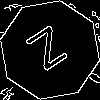Z: (25, 25, 76, 80)
